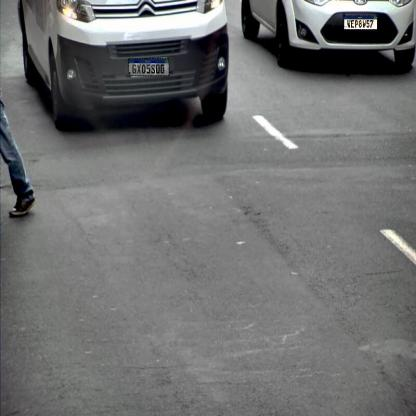PlacaM: (128, 58, 169, 76), (344, 15, 378, 30)
